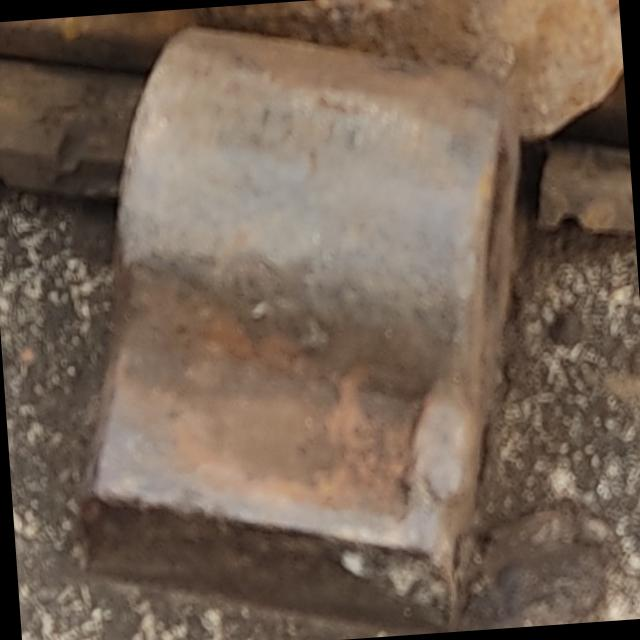track_bolt_missing: (95, 0, 544, 399)
